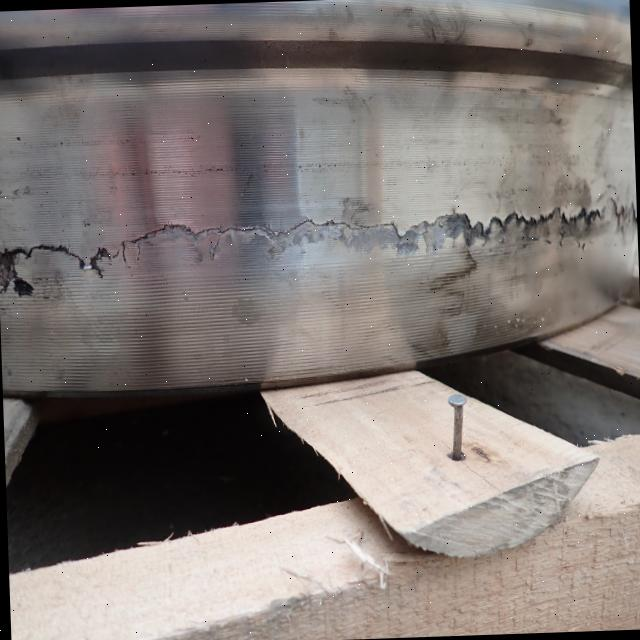Contact_Fatigue_Cracks: (118, 220, 255, 260), (342, 222, 395, 252)
Peeling: (484, 205, 601, 248), (398, 216, 479, 259), (262, 219, 338, 259), (158, 222, 251, 248), (1, 248, 35, 294), (78, 246, 112, 280)
